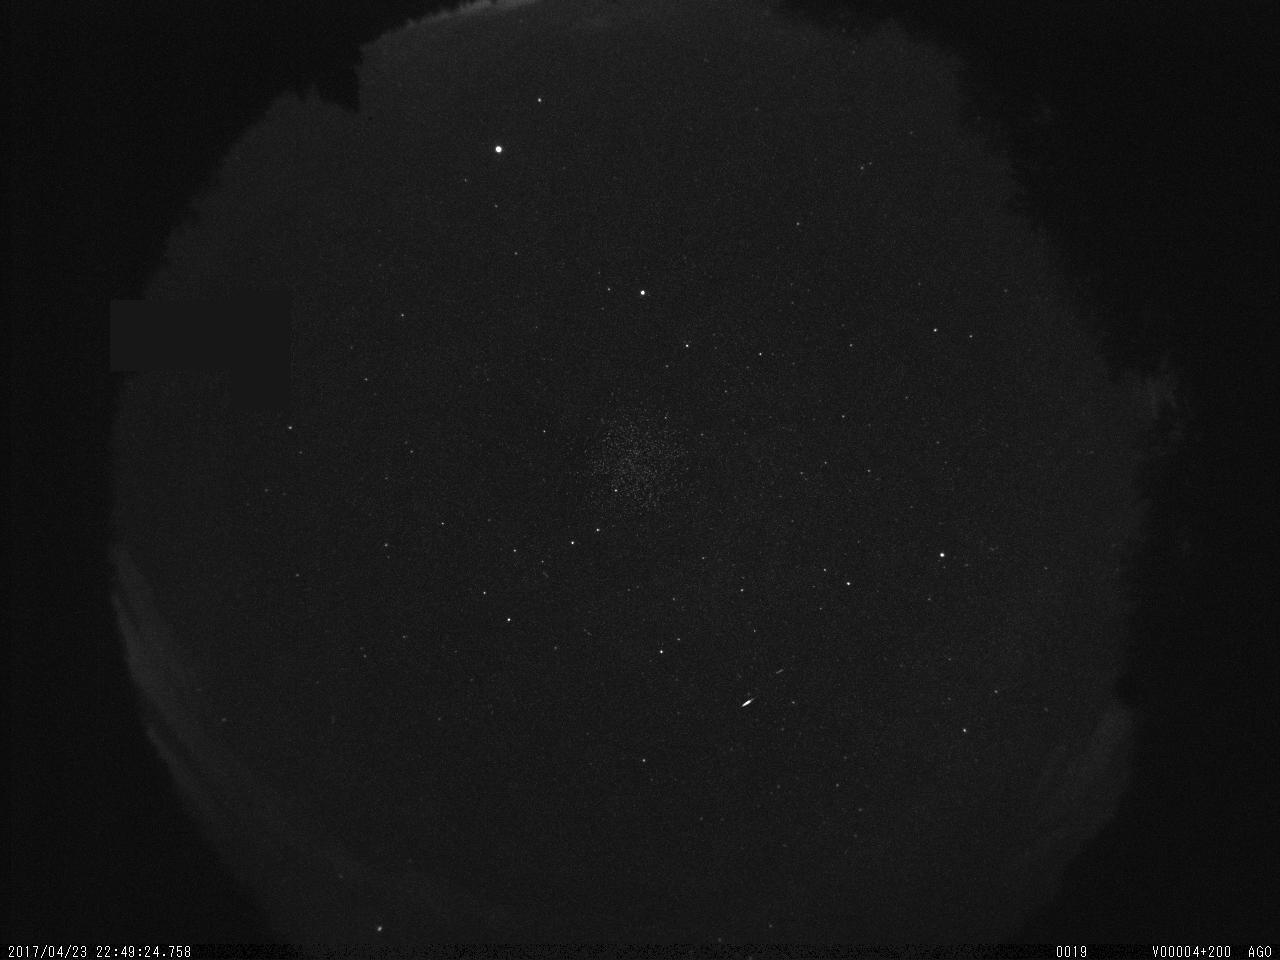Meteor: (732, 694, 760, 712)
